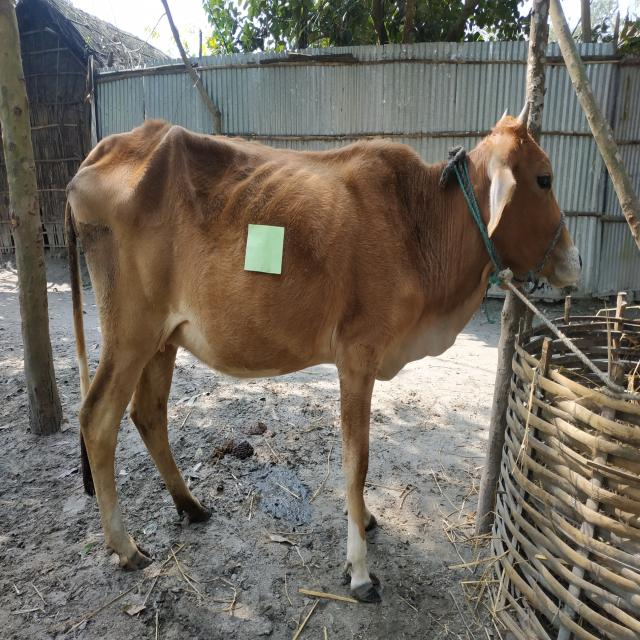badan_sapi: (99, 136, 393, 378)
sapi: (59, 94, 603, 607)
